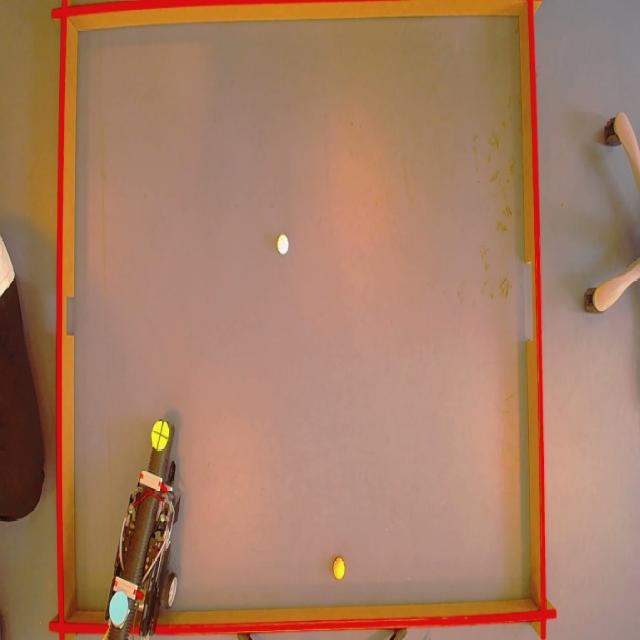orange: (331, 558, 348, 582)
robot: (88, 415, 183, 640)
robot-front: (150, 419, 170, 451)
robot-rear: (109, 590, 129, 627)
white: (275, 233, 289, 255)
